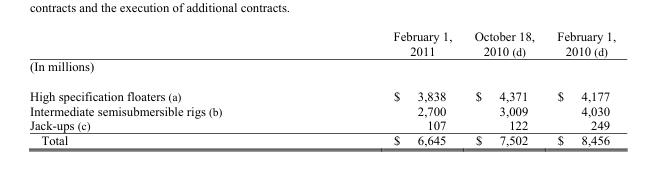table: (28, 29, 615, 147)
table column: (28, 29, 306, 147), (306, 29, 462, 147), (462, 29, 545, 147), (545, 29, 615, 147)
table column header: (28, 29, 615, 58)
table projected row header: (28, 58, 615, 80)
table row: (28, 29, 615, 58), (28, 58, 615, 80), (28, 80, 615, 102), (28, 102, 615, 117), (28, 117, 615, 132), (28, 132, 615, 147)
